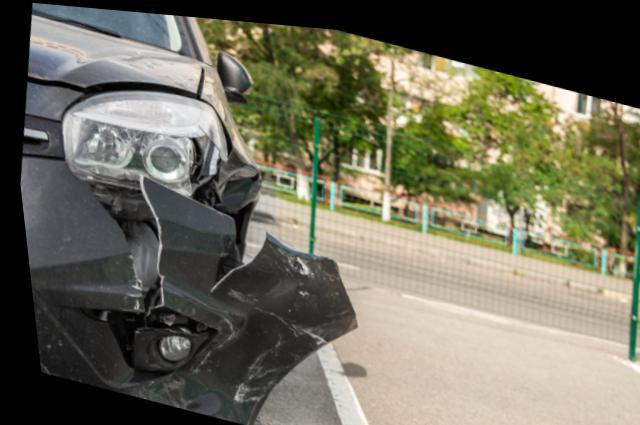crack: (85, 180, 158, 313), (204, 218, 262, 291)
dent: (154, 324, 269, 415), (210, 148, 257, 206)
dislocated part: (16, 156, 350, 422)
lamp broken: (63, 87, 222, 190)
